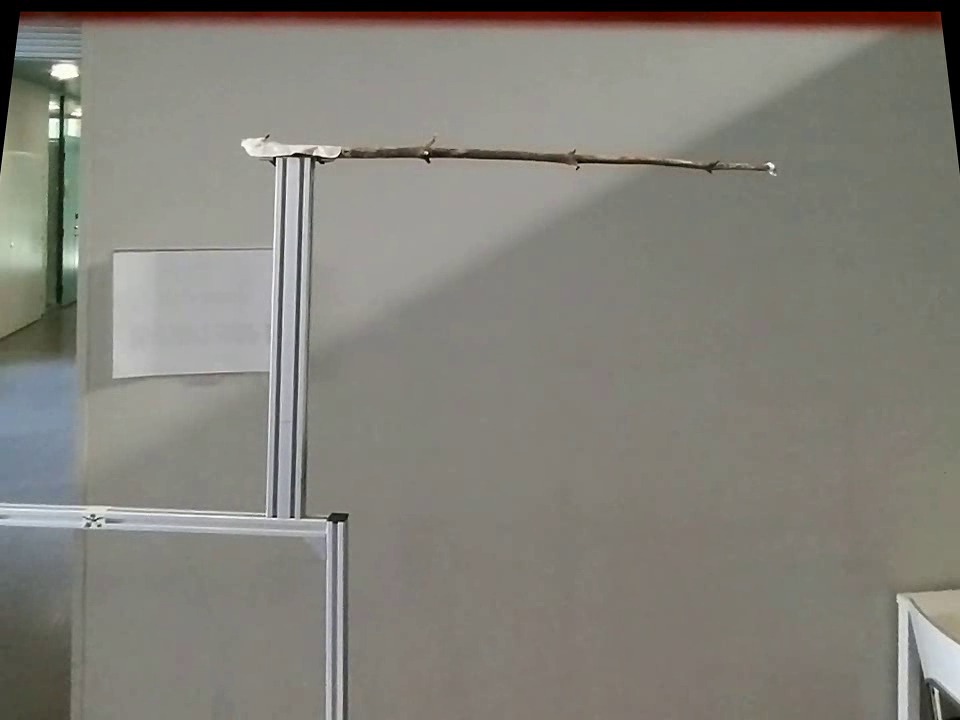aluminum_frame: (262, 159, 312, 517), (3, 496, 324, 540), (319, 508, 358, 717)
branch: (342, 127, 762, 186)
